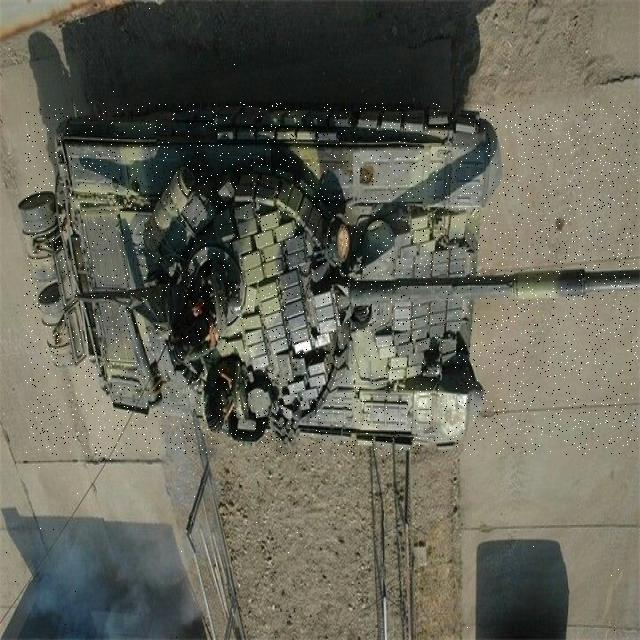MIL_MBT: (24, 102, 638, 456)
